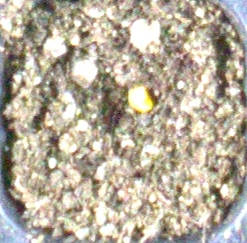pepper seed: (51, 31, 205, 143)
